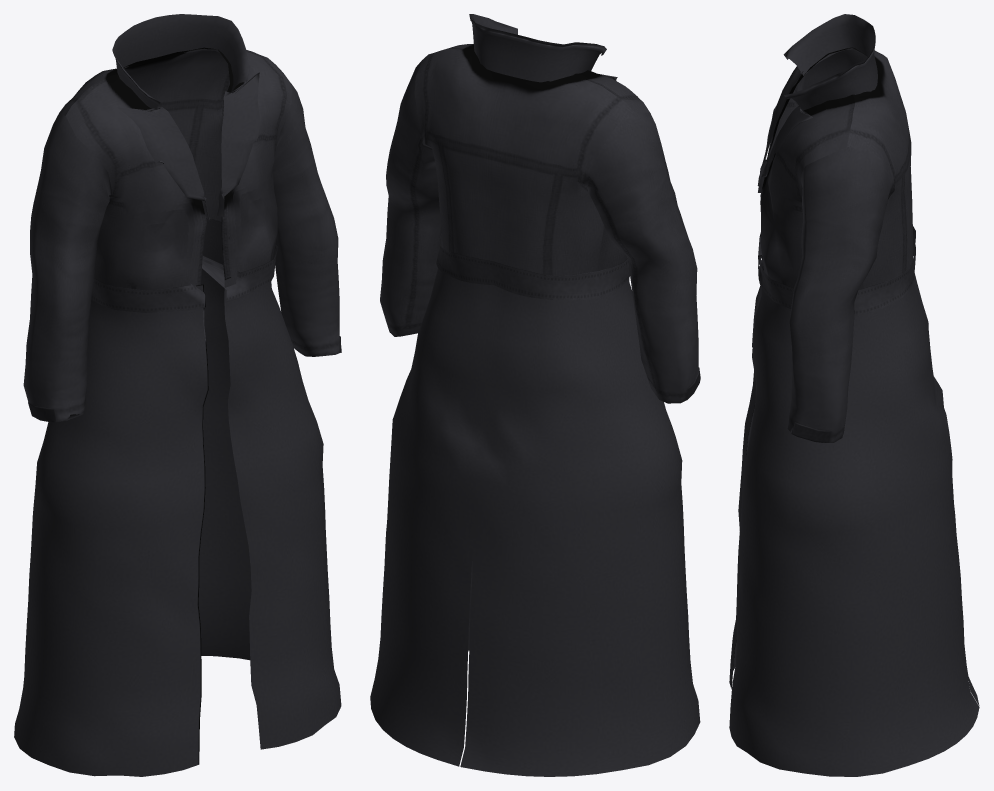
The model's file is clothing_trenchcoat.glb.
3 views of the same model, side by side, from view 1: azimuth 30°, elevation 25°; view 2: azimuth 150°, elevation 25°; view 3: azimuth 270°, elevation 25° (orthographic). The views are drawn at different scales.
Visible parts, largest first — view 1: Cloth_trenchcoat; view 2: Cloth_trenchcoat; view 3: Cloth_trenchcoat.
Part boxes in pixels (x1,y1,x2,y2): Cloth_trenchcoat: (14, 14, 341, 776); Cloth_trenchcoat: (370, 14, 700, 776); Cloth_trenchcoat: (729, 14, 979, 776).
Bounding box in the file's own units: 0.688 × 1.49 × 0.5013.
Materials: 1 (1 with a texture image).
